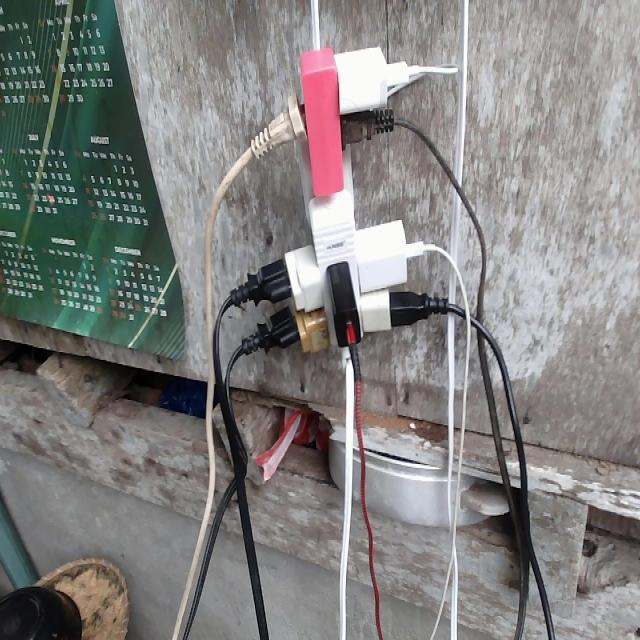-: (246, 39, 440, 362)
